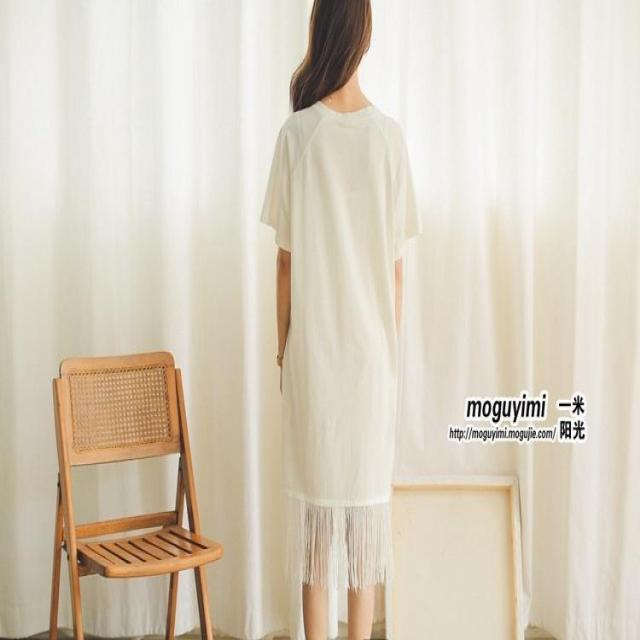short sleeve dress: (259, 101, 422, 585)
